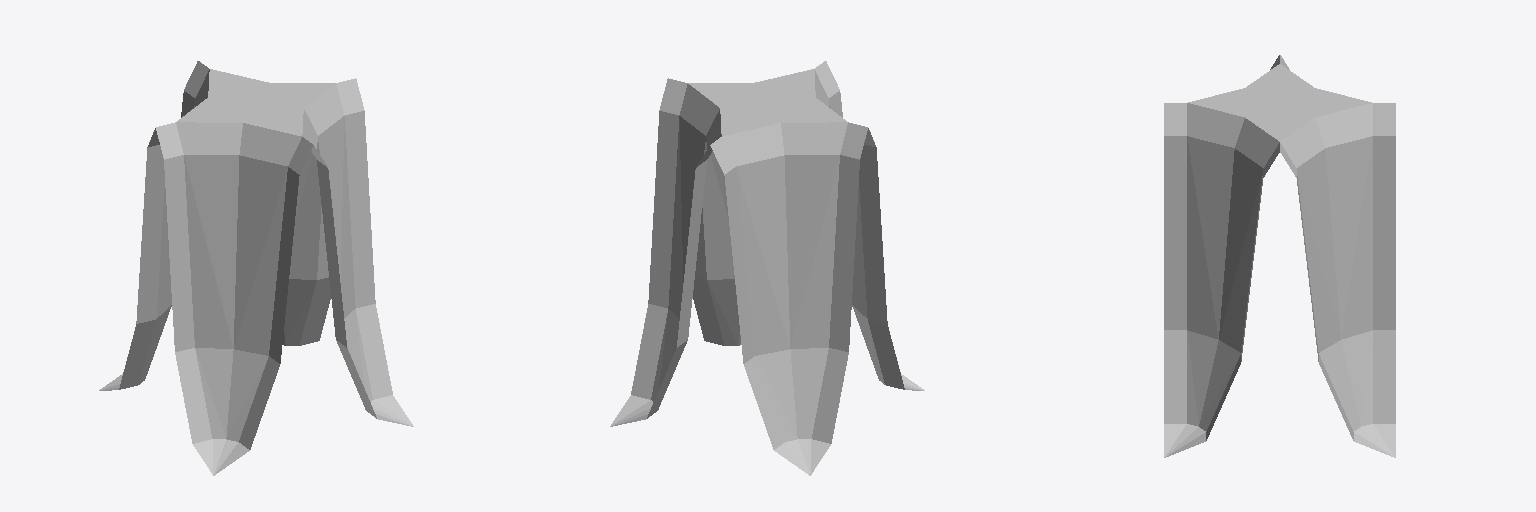
Rendered from wall_11.obj.
3 renders of one model, left to right at view 1: azimuth 30°, elevation 25°; view 2: azimuth 150°, elevation 25°; view 3: azimuth 270°, elevation 25°, orthographic.
Parts seen in each view (by area): view 1: wall_11_Cave_Wall_Inner.021; view 2: wall_11_Cave_Wall_Inner.021; view 3: wall_11_Cave_Wall_Inner.021.
Part boxes in pixels (bbox=[...]): wall_11_Cave_Wall_Inner.021: bbox=[99, 61, 413, 475]; wall_11_Cave_Wall_Inner.021: bbox=[610, 61, 924, 475]; wall_11_Cave_Wall_Inner.021: bbox=[1164, 55, 1395, 457].
Size of the model in its own units: 1 by 1.46 by 1.